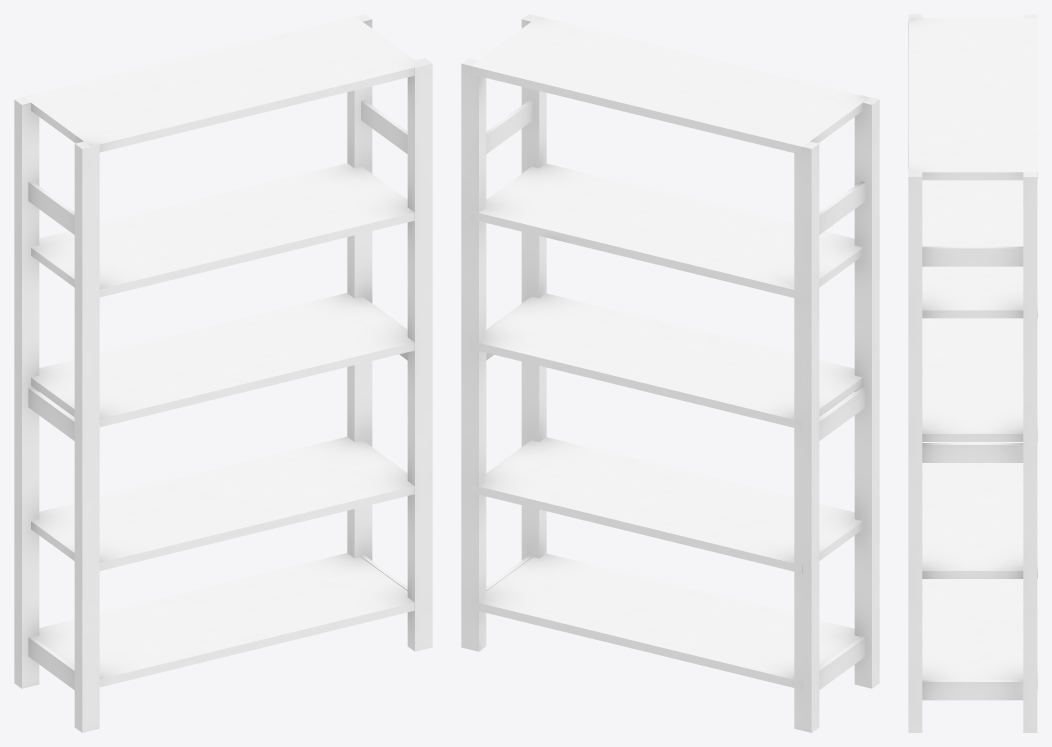
File: Rack.glb
3 renders of one model, left to right at view 1: azimuth 30°, elevation 25°; view 2: azimuth 150°, elevation 25°; view 3: azimuth 270°, elevation 25°, orthographic. The views are drawn at different scales.
Visible parts, largest first — view 1: Rack, Rack.001; view 2: Rack, Rack.001; view 3: Rack, Rack.001.
Part boxes in pixels (box(x1,y1,x2,y2)): Rack: box(23, 16, 420, 687); Rack.001: box(14, 14, 432, 732); Rack: box(470, 16, 869, 689); Rack.001: box(461, 14, 879, 732); Rack: box(909, 18, 1037, 689); Rack.001: box(908, 14, 1037, 732).
Size of the model in its own units: 0.898 by 1.43 by 0.3017.
1 material, 1 textured.
